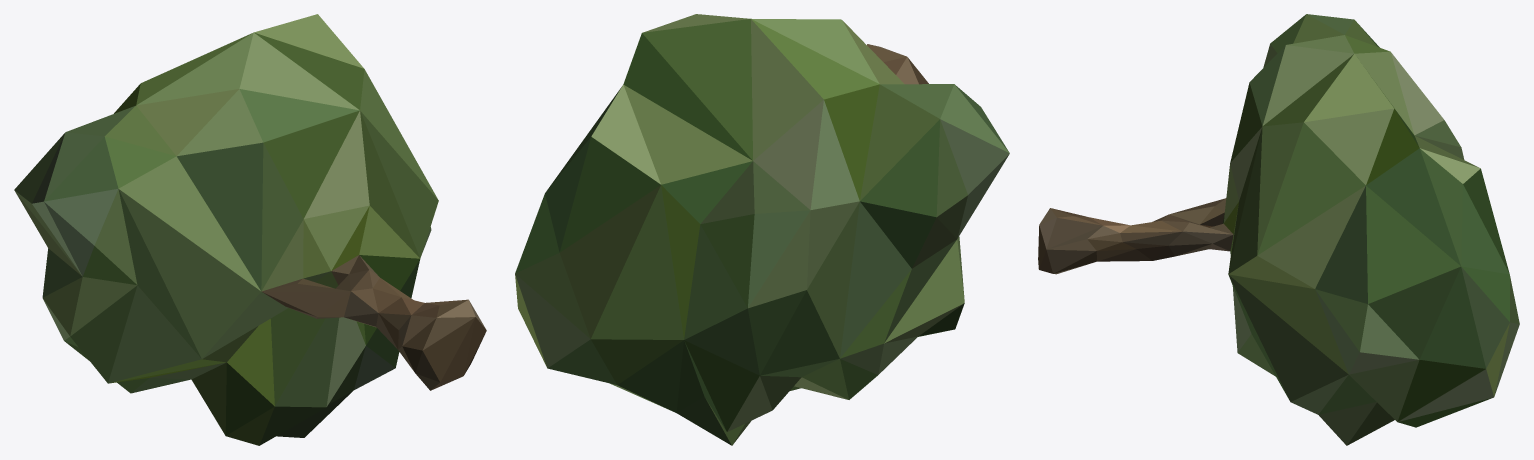
The model's file is Tree_A-DetailA.fbx.
The picture shows the model from 3 angles, left to right: view 1: azimuth 30°, elevation 25°; view 2: azimuth 150°, elevation 25°; view 3: azimuth 270°, elevation 25°; orthographic projection. The views are drawn at different scales.
Parts seen in each view (by area): view 1: Tree_A-DetailA; view 2: Tree_A-DetailA; view 3: Tree_A-DetailA.
Boxes of the visible parts, x1,y1,x2,y2 form: Tree_A-DetailA: (14,14,486,445); Tree_A-DetailA: (515,14,1009,445); Tree_A-DetailA: (1038,14,1519,445).
Size of the model in its own units: 1268 by 1209 by 1420.
